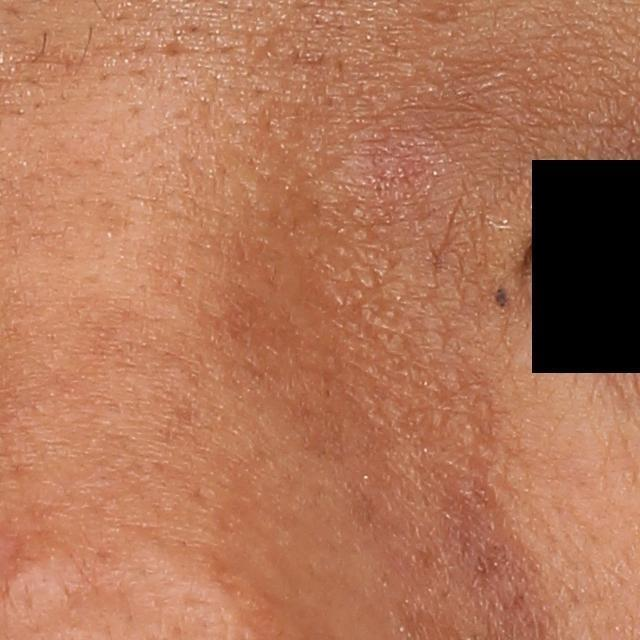atrophic_scar: (154, 36, 192, 56)
nevus: (492, 283, 510, 311)
